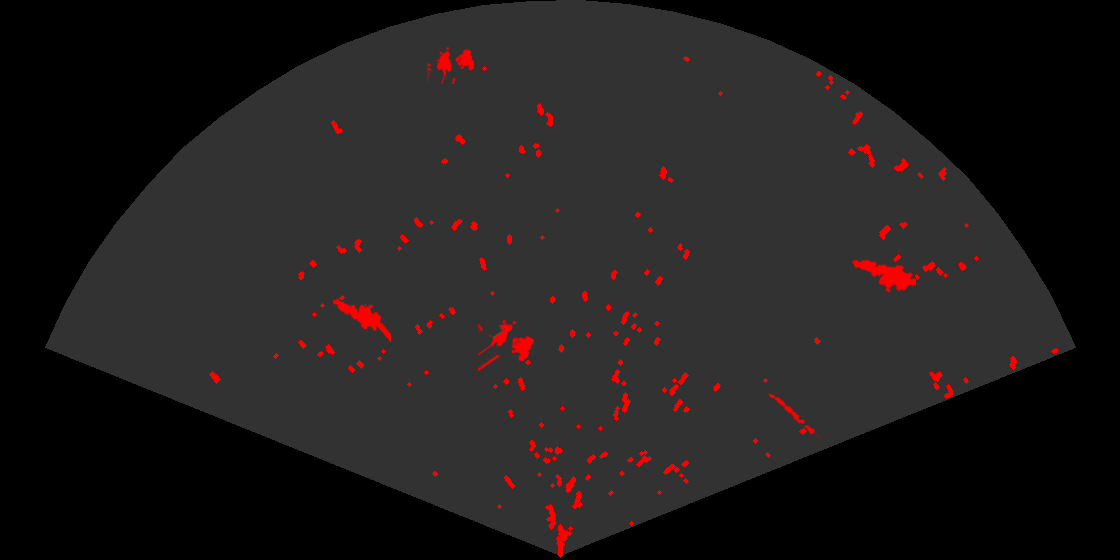cage: (478, 318, 536, 373), (427, 45, 477, 84)
chain: (765, 388, 823, 439)
frogman: (331, 297, 391, 344), (851, 258, 916, 295)
